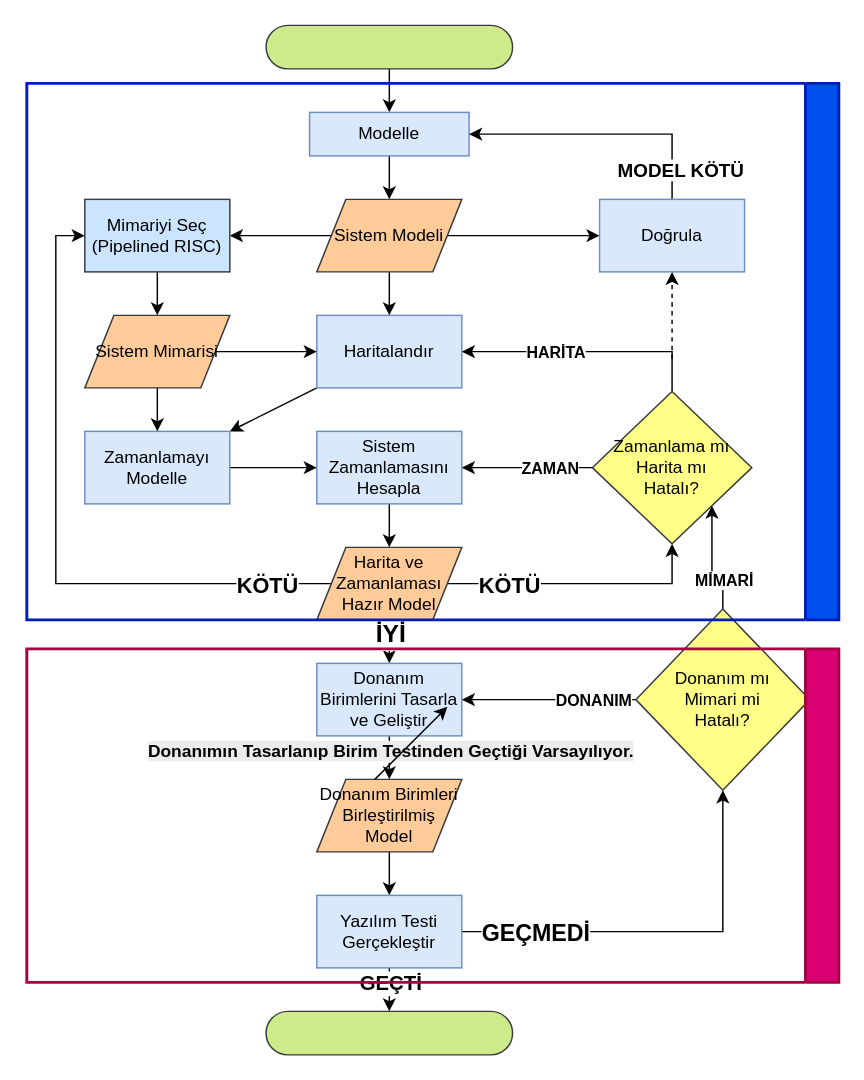
This 864x1080 diagram has some shape labels left out. Each missing label, with the box of its shape:
Gereksinimleri Belirle (Önceden Belli): (265, 24, 513, 69)
MİMARİ TASARIM VE SENTEZ: (25, 81, 840, 621)
Simülasyon Başarılı: (265, 1010, 513, 1055)
TEST VE SİMÜLASYON: (25, 647, 840, 983)
